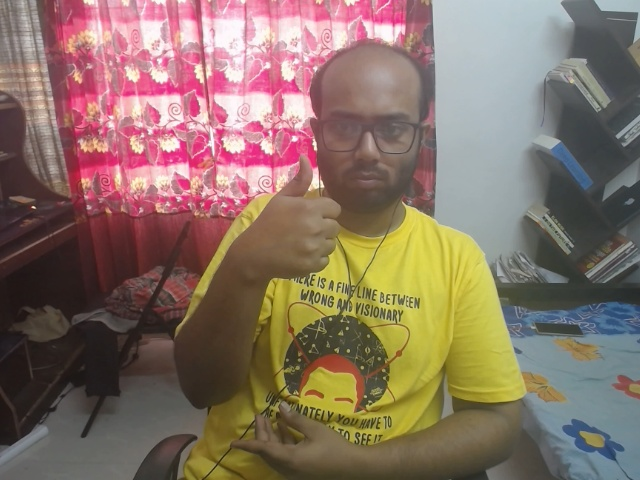six: (234, 153, 350, 290)
